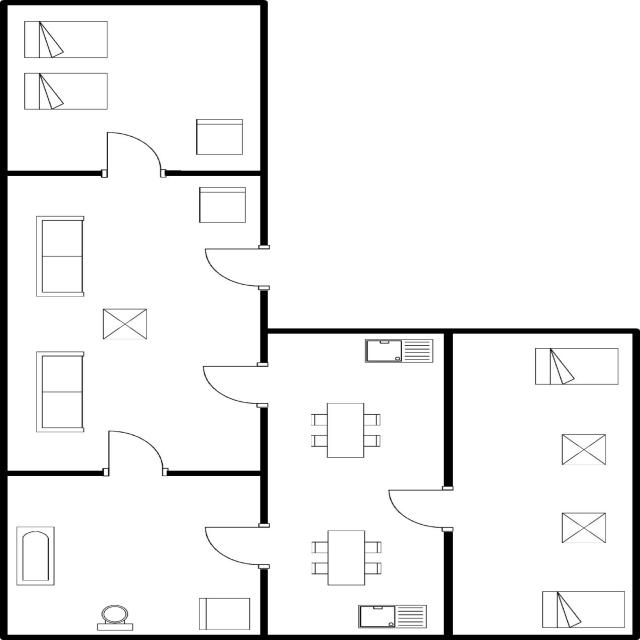bed: (527, 342, 622, 391), (18, 68, 114, 115), (18, 16, 114, 62), (531, 587, 627, 630)
coffee_table: (94, 305, 154, 343), (554, 429, 608, 470), (555, 508, 612, 546)
dining_table: (308, 526, 388, 590), (303, 399, 384, 462)
large_sink: (90, 602, 138, 632)
large_sofa: (29, 212, 89, 302), (32, 348, 92, 436)
sink: (359, 333, 438, 368), (354, 600, 434, 632)
small_sofa: (194, 182, 253, 228), (190, 113, 248, 157), (190, 594, 252, 634)
tub: (12, 522, 62, 589)
